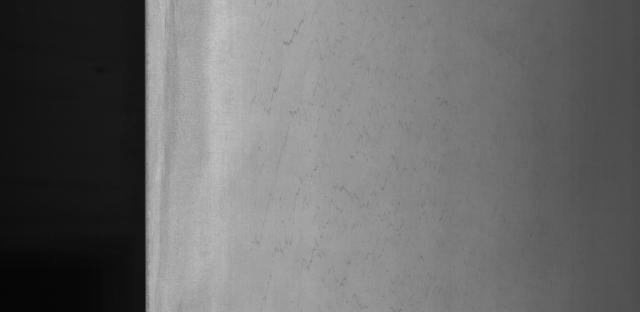silk_spot: (259, 5, 397, 244)
